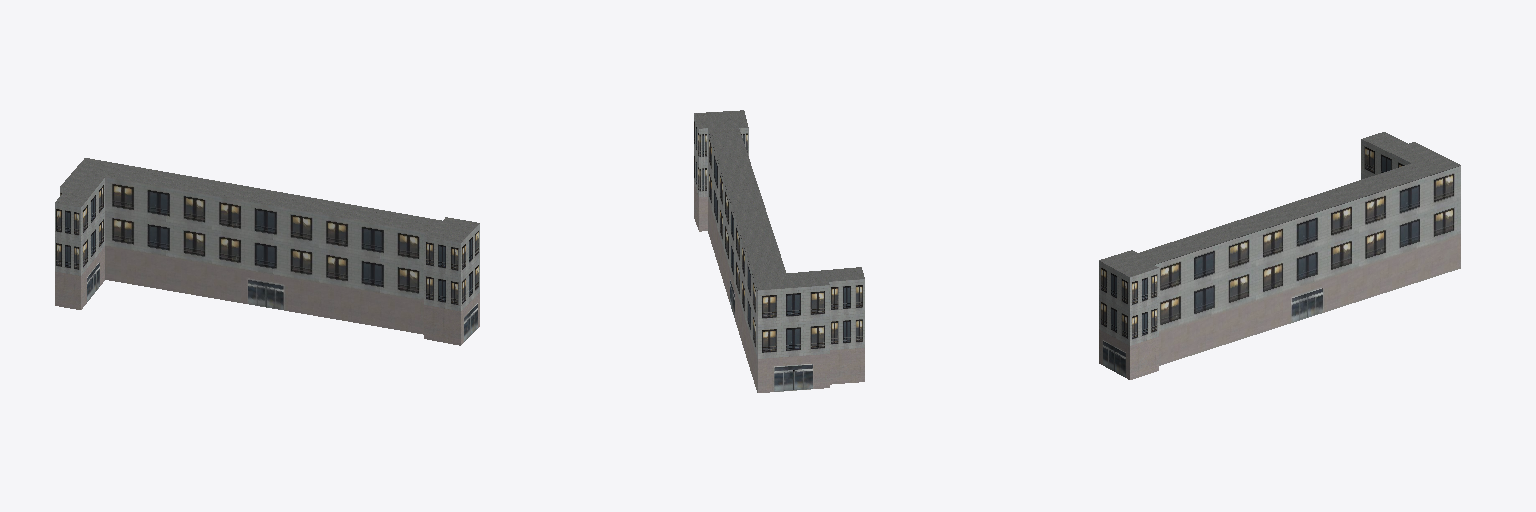
3 views of the same model, side by side, from view 1: azimuth 30°, elevation 25°; view 2: azimuth 150°, elevation 25°; view 3: azimuth 270°, elevation 25° (orthographic).
Parts seen in each view (by area): view 1: BuildingMaster_[number redacted]_0, BuildingMaster_[number redacted]_1; view 2: BuildingMaster_[number redacted]_0, BuildingMaster_[number redacted]_1; view 3: BuildingMaster_[number redacted]_0, BuildingMaster_[number redacted]_1.
Part boxes in pixels (x1,y1,x2,y2): BuildingMaster_[number redacted]_0: (55,177,479,345); BuildingMaster_[number redacted]_1: (55,158,479,242); BuildingMaster_[number redacted]_0: (694,116,864,392); BuildingMaster_[number redacted]_1: (694,110,864,289); BuildingMaster_[number redacted]_0: (1099,139,1460,379); BuildingMaster_[number redacted]_1: (1099,132,1460,276).
Bounding box in the file's own units: 31.89 × 10.5 × 33.54.
2 materials, 2 textured.